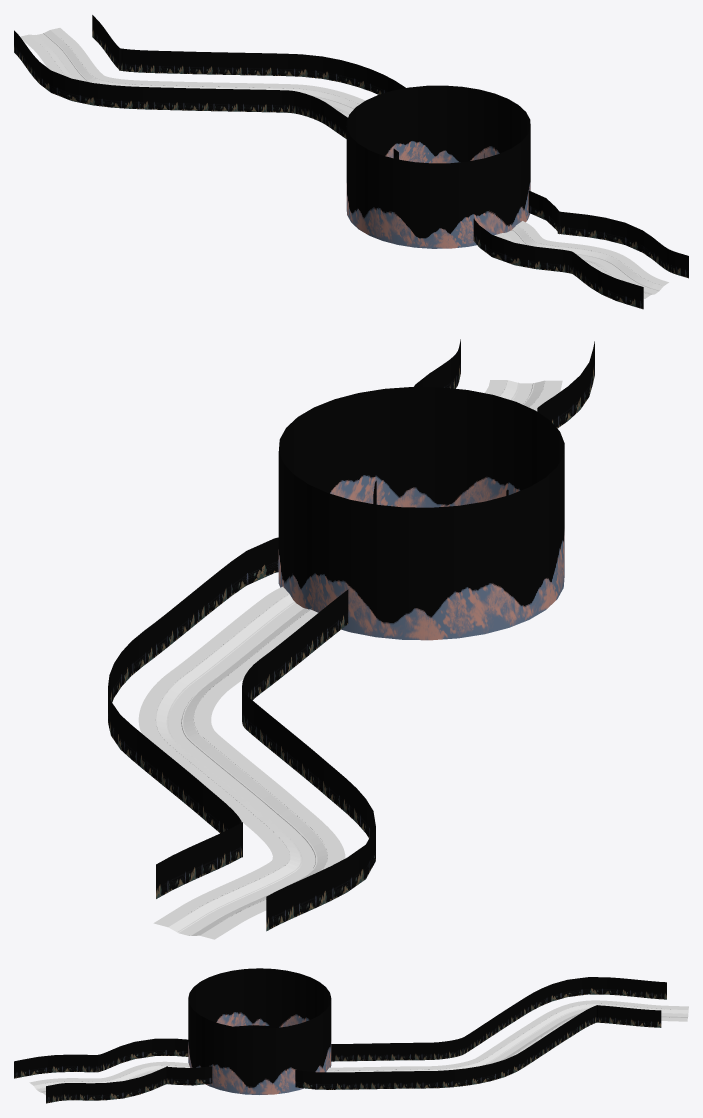
File: level.fbx
3 views of the same model, one above another, from view 1: azimuth 30°, elevation 25°; view 2: azimuth 150°, elevation 25°; view 3: azimuth 270°, elevation 25° (orthographic). The views are drawn at different scales.
Parts seen in each view (by area): view 1: mountains, skyline, land, water; view 2: mountains, skyline, land, water; view 3: skyline, mountains, land, water.
Boxes of the visible parts, bbox=[...] form: mountains: bbox=[346, 85, 530, 248]; skyline: bbox=[14, 15, 688, 309]; land: bbox=[20, 28, 668, 298]; water: bbox=[48, 44, 659, 293]; mountains: bbox=[278, 387, 564, 640]; skyline: bbox=[108, 339, 594, 931]; land: bbox=[138, 380, 562, 939]; water: bbox=[168, 383, 532, 920]; skyline: bbox=[14, 977, 666, 1103]; mountains: bbox=[188, 968, 331, 1094]; land: bbox=[29, 1000, 688, 1095]; water: bbox=[36, 1008, 666, 1091].
Size of the model in its own units: 1453 by 411 by 3797.
